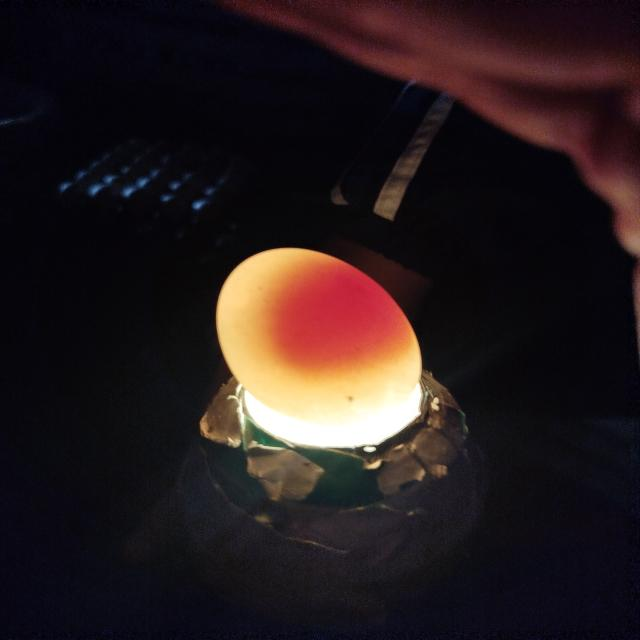Gema Quebrada: (268, 268, 414, 379)
